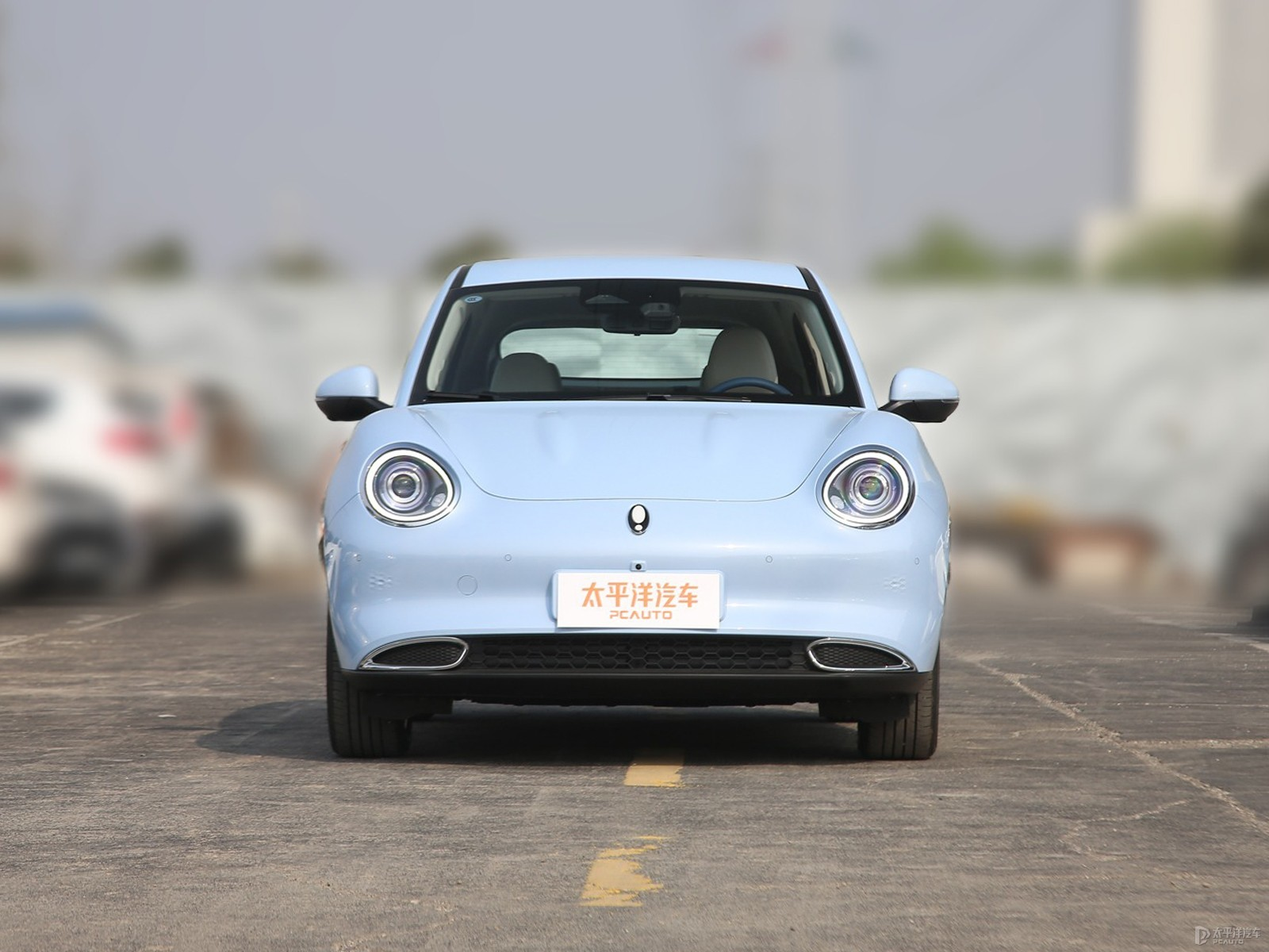ORA: (628, 505, 650, 534)
